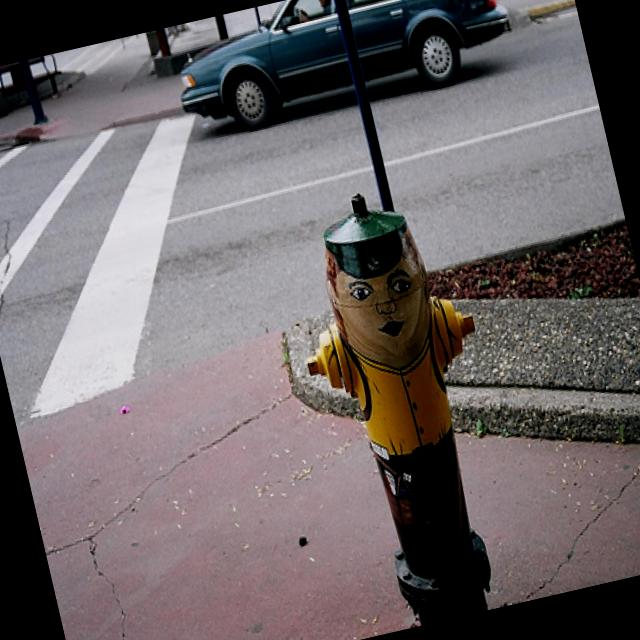Vehicle: (164, 0, 521, 145)
